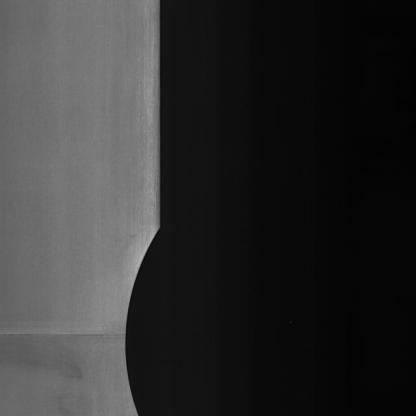crescent_gap: (108, 222, 178, 415)
welding_line: (0, 318, 136, 352)
